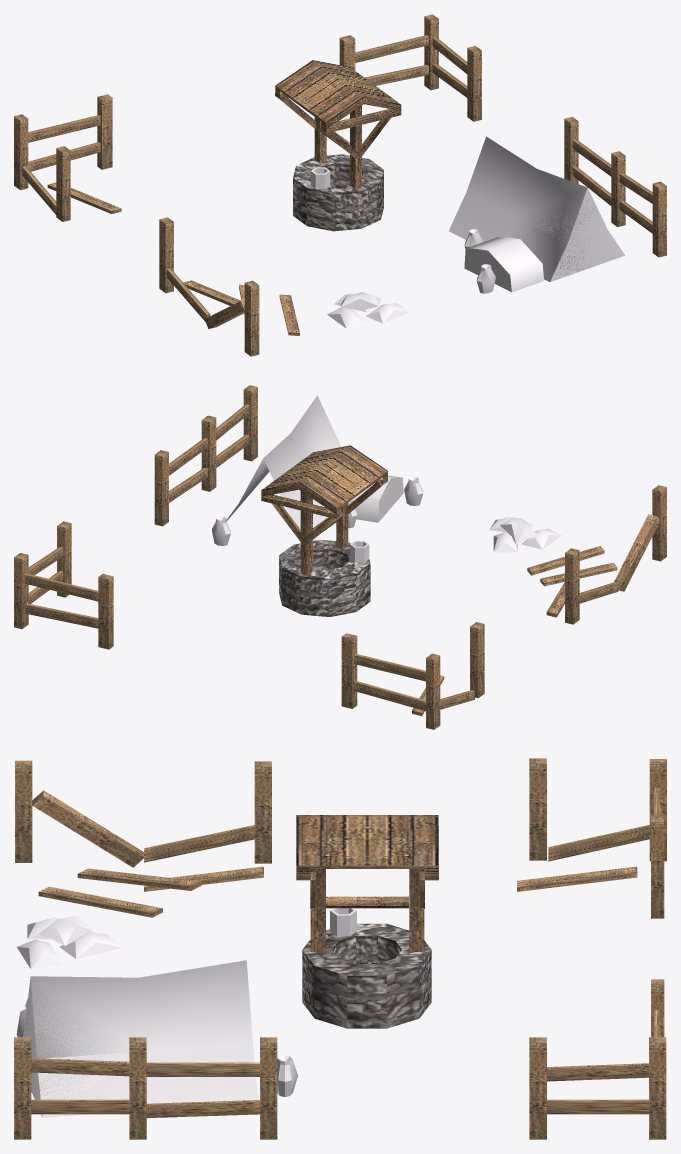
Rendered from settlement_1.dae.
The picture shows the model from 3 angles, top to bottom: view 1: azimuth 30°, elevation 25°; view 2: azimuth 150°, elevation 25°; view 3: azimuth 270°, elevation 25°; orthographic projection. The views are drawn at different scales.
Parts seen in each view (by area): view 1: Box31; view 2: Box31; view 3: Box31.
Part boxes in pixels (x1,y1,x2,y2): Box31: (14,14,666,356); Box31: (14,385,666,729); Box31: (14,758,666,1139).
Bounding box in the file's own units: 24.69 × 23.94 × 7.68.
